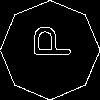P: (25, 25, 70, 58)
